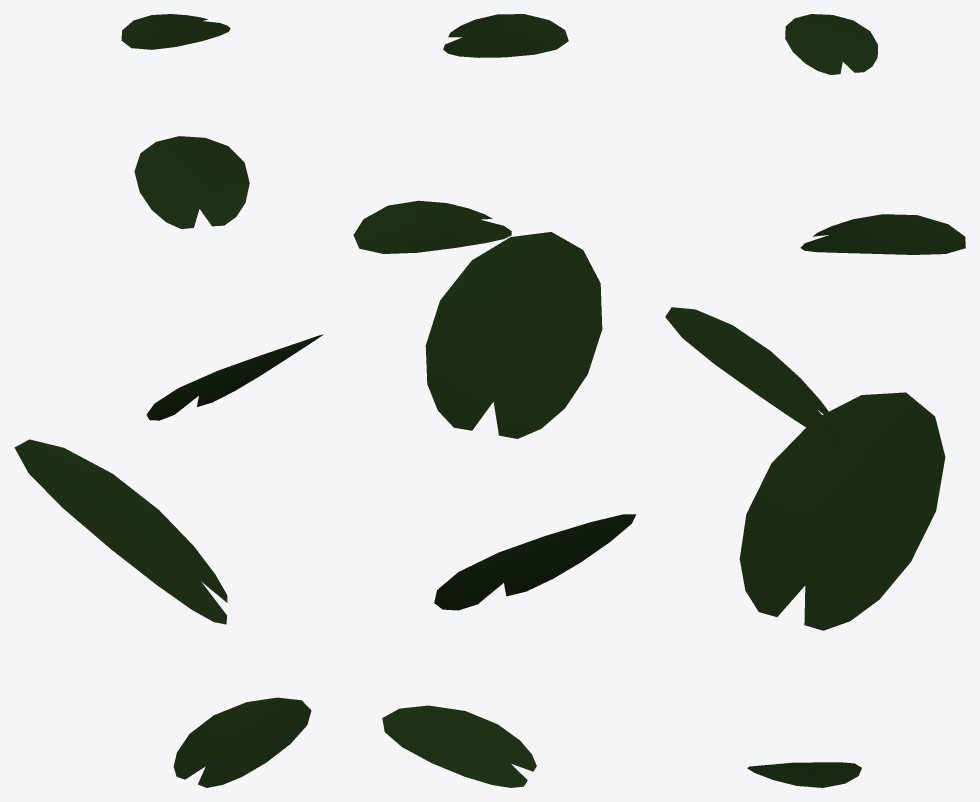
Rendered from weeds_-02+02_foliage.dae.
3 views of the same model, side by side, from view 1: azimuth 30°, elevation 25°; view 2: azimuth 150°, elevation 25°; view 3: azimuth 270°, elevation 25° (orthographic). The views are drawn at different scales.
Parts seen in each view (by area): view 1: weeds_-02+02_foliage; view 2: weeds_-02+02_foliage; view 3: weeds_-02+02_foliage.
Part boxes in pixels (x1,y1,x2,y2): weeds_-02+02_foliage: [14, 14, 323, 787]; weeds_-02+02_foliage: [353, 14, 636, 787]; weeds_-02+02_foliage: [665, 14, 965, 787].
Bounding box in the file's own units: 0.1082 × 0.1127 × 0.3023.
